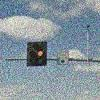traffic lights: (36, 40, 48, 67), (28, 41, 38, 68)
